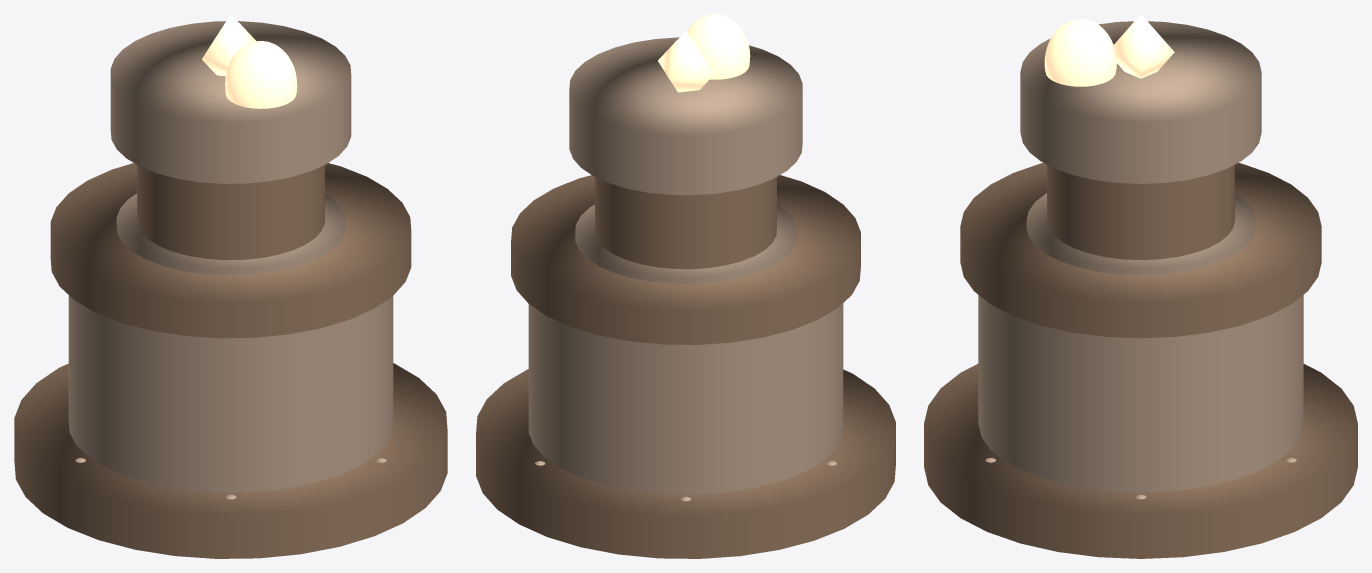
File: fire_l3.glb
3 views of the same model, side by side, from view 1: azimuth 30°, elevation 25°; view 2: azimuth 150°, elevation 25°; view 3: azimuth 270°, elevation 25° (orthographic). The views are drawn at different scales.
Parts seen in each view (by area): view 1: base, footing, baseCollar, brazier, shaft, lowerTrim, ember, spinCrystal; view 2: base, footing, baseCollar, brazier, shaft, lowerTrim, ember, spinCrystal; view 3: base, footing, baseCollar, brazier, shaft, lowerTrim, ember, spinCrystal.
Boxes of the visible parts, x1,y1,x2,y2 form: base: (68, 295, 393, 492); footing: (14, 363, 447, 558); baseCollar: (50, 163, 411, 338); brazier: (110, 21, 351, 183); shaft: (137, 165, 324, 260); lowerTrim: (116, 193, 345, 275); ember: (225, 41, 297, 108); spinCrystal: (202, 14, 256, 76); base: (528, 303, 843, 494); footing: (476, 369, 895, 558); baseCollar: (511, 175, 860, 344); brazier: (569, 37, 802, 195); shaft: (595, 177, 776, 269); lowerTrim: (575, 204, 796, 283); ember: (687, 14, 750, 79); spinCrystal: (658, 31, 713, 92); base: (978, 295, 1303, 492); footing: (924, 364, 1357, 558); baseCollar: (960, 163, 1321, 338); brazier: (1020, 21, 1261, 183); shaft: (1047, 164, 1234, 259); lowerTrim: (1026, 193, 1255, 275); ember: (1044, 19, 1116, 86); spinCrystal: (1113, 14, 1174, 78).
Size of the model in its own units: 1.8 by 2.07 by 1.8.
